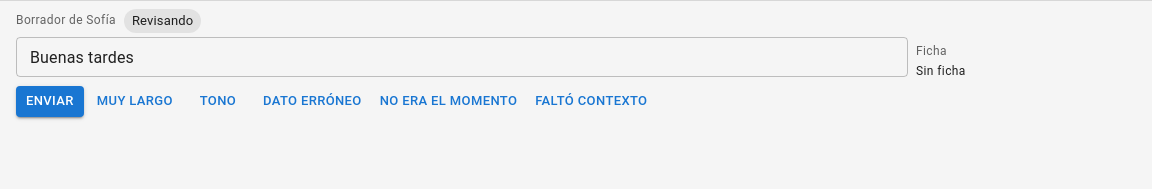
Test: SofiaDraftPanel › avisa si el mensaje salió y el borrador no se cerró
expect the text box showing "Buenas tardes" is shown: met, box [30,46,894,68]
Click the button "Enviar".
click(50, 101)  # box [16,86,84,117]
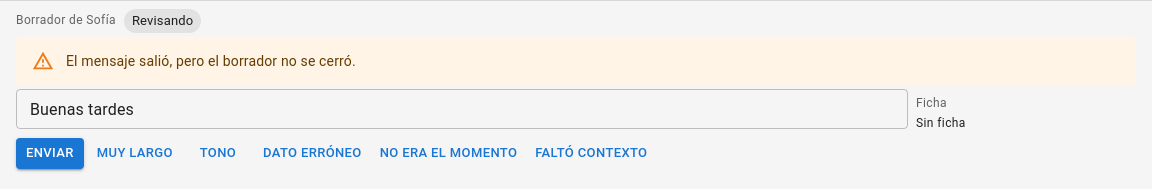
expect the text box showing "Buenas tardes" is shown: met, box [30,98,894,120]
expect the text "El mensaje salió, pero el borrador no se cerró." is shown: met, box [66,53,356,69]
